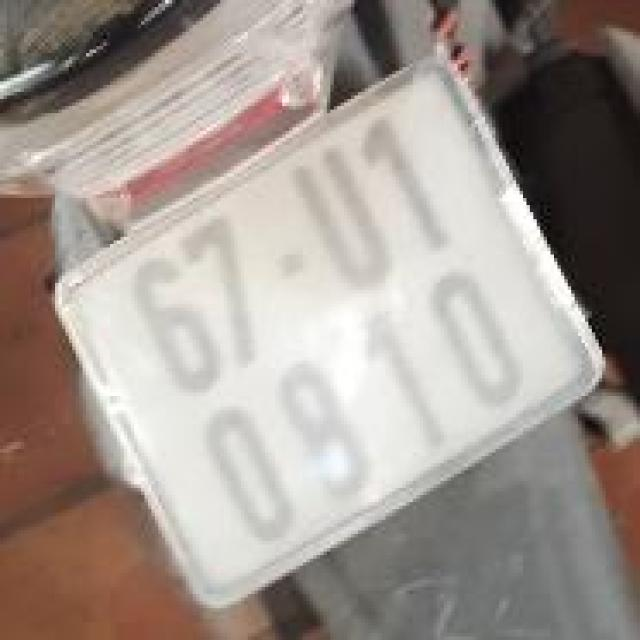0: (417, 258, 550, 428), (185, 388, 313, 562)
1: (348, 291, 475, 479), (345, 101, 465, 268)
6: (109, 232, 247, 414)
7: (173, 203, 292, 380)
9: (254, 336, 395, 519)
U: (278, 137, 413, 306)
